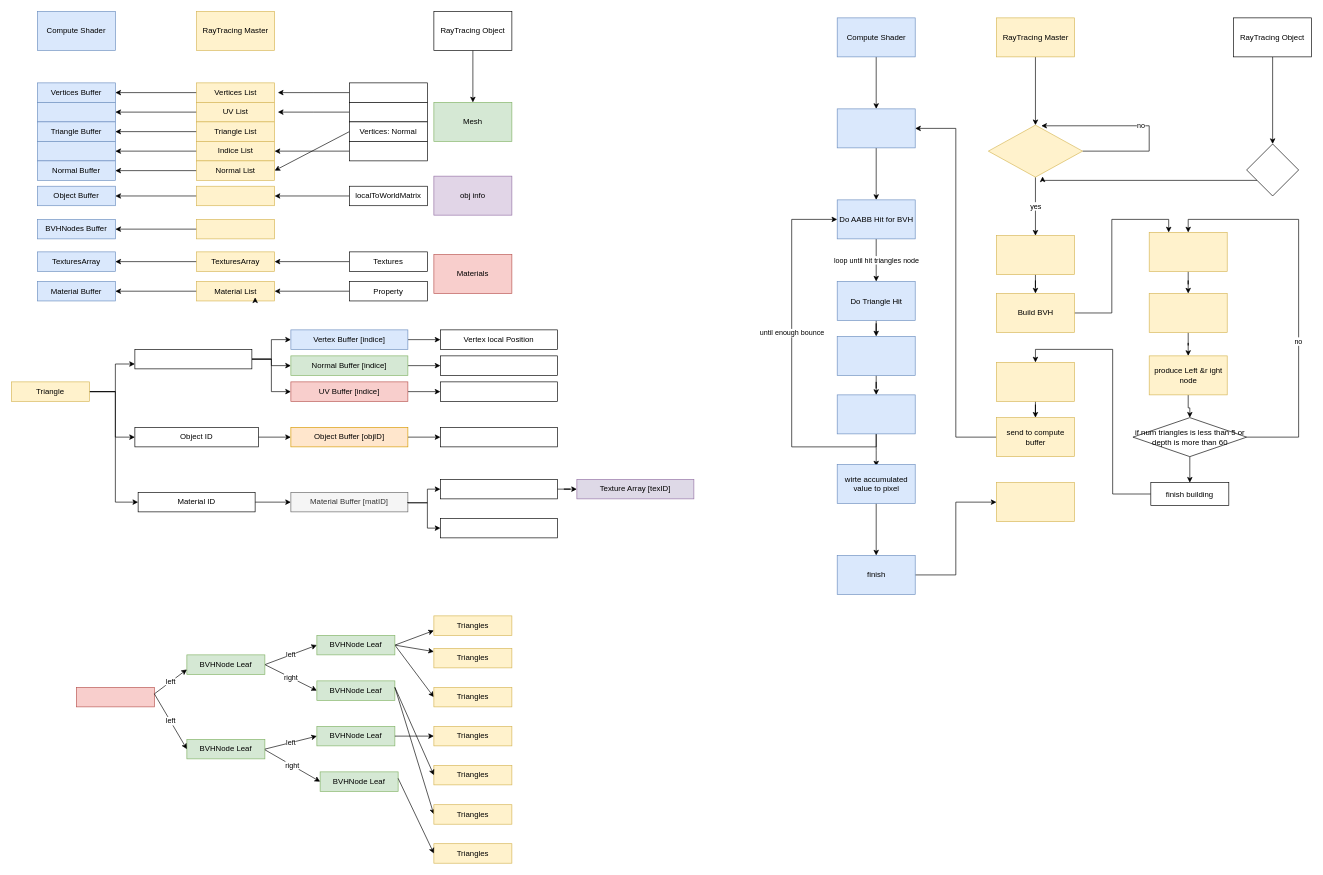
Image size: 1323x875. Some labels were removed from this diagram. The shapes that lost their labels are listed below. From the top down, each one's centre as x and y in pixels, then its label:
At point (76, 112): "UV Buffer".
At point (388, 92): "Vertices: Position".
At point (388, 112): "Vertices: UV".
At point (876, 128): "for each pixel shoot 8 rays".
At point (76, 151): "Indice Buffer".
At point (388, 151): "Triangle: indices".
At point (1035, 150): "check if need rebuild BVH and buffer".
At point (1272, 169): "if changed".
At point (235, 196): "Object List".
At point (235, 229): "BVHNodes List".
At point (1035, 255): "get all triangles".
At point (1188, 251): "measure the triangles bounding box".
At point (1188, 312): "run SAH to make the best slice".
At point (193, 359): "Three Vertices Indices".
At point (498, 365): "Vertex local Normal".
At point (876, 355): "generate new ray direction/ get hit info".
At point (498, 391): "Vertex local UV".
At point (1035, 381): "load compute buffer".
At point (876, 414): "Shading".
At point (498, 437): "LocalToWorld Matrix".
At point (498, 489): "texture ID".
At point (1035, 502): "Write result to render texture show it on camera".
At point (498, 528): "alberdo/ smoothness/emission".
At point (115, 697): "BVHNode (root)".
